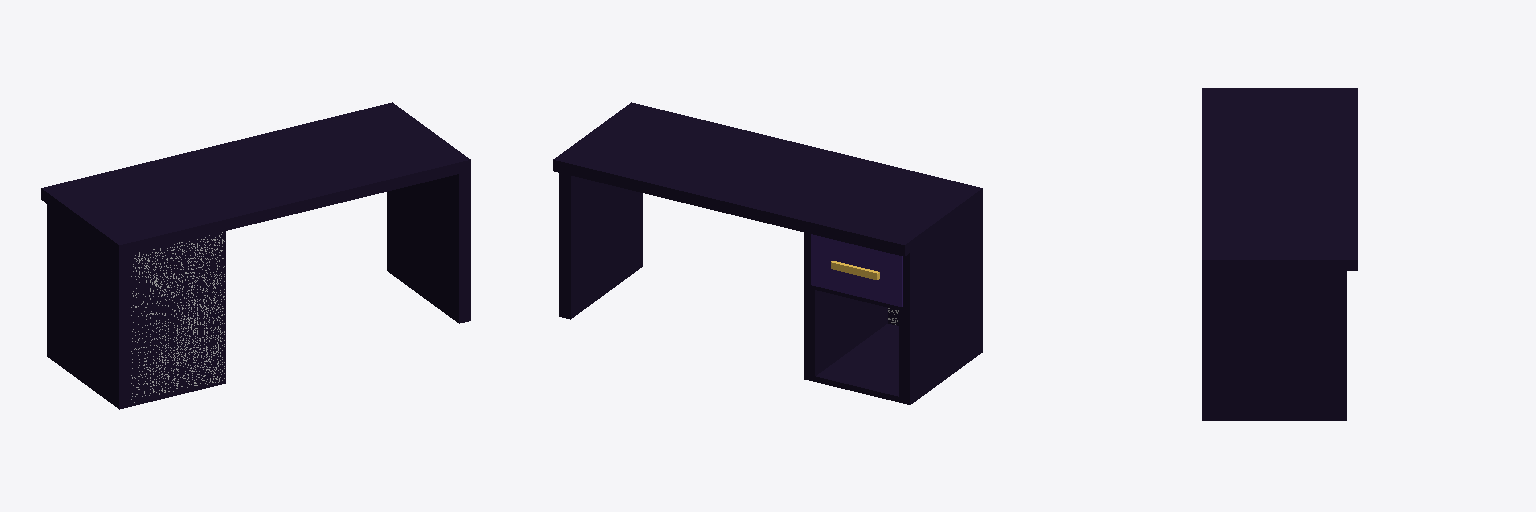
3 views of the same model, side by side, from view 1: azimuth 30°, elevation 25°; view 2: azimuth 150°, elevation 25°; view 3: azimuth 270°, elevation 25° (orthographic).
Parts seen in each view (by area): view 1: Estrutura; view 2: Estrutura; view 3: Estrutura.
Part boxes in pixels (left/top/right/bottom): Estrutura: left=41, top=102, right=470, bottom=409; Estrutura: left=553, top=102, right=982, bottom=404; Estrutura: left=1202, top=88, right=1357, bottom=420.
Bounding box in the file's own units: 0.875 × 0.3906 × 0.3375.
Materials: 4 (3 with a texture image).